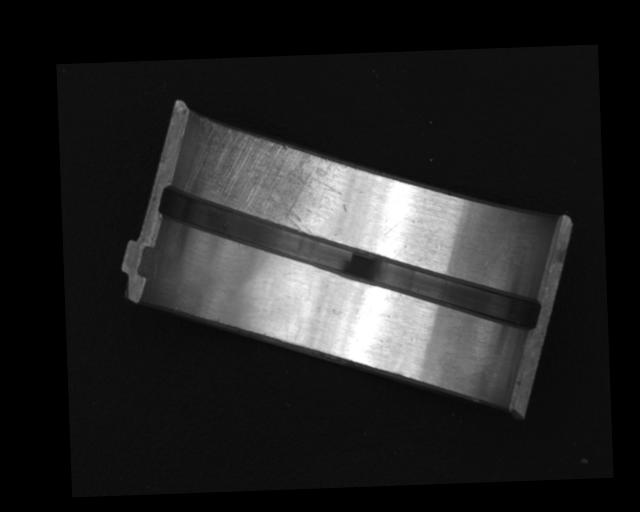gap: (158, 172, 542, 344)
scratch: (189, 115, 342, 240)
